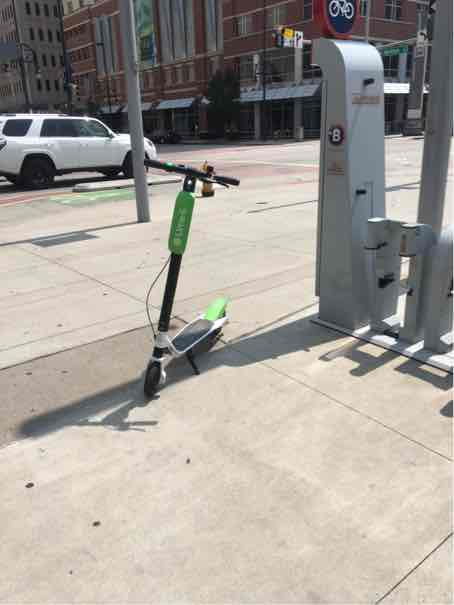scooter: (139, 156, 241, 410)
